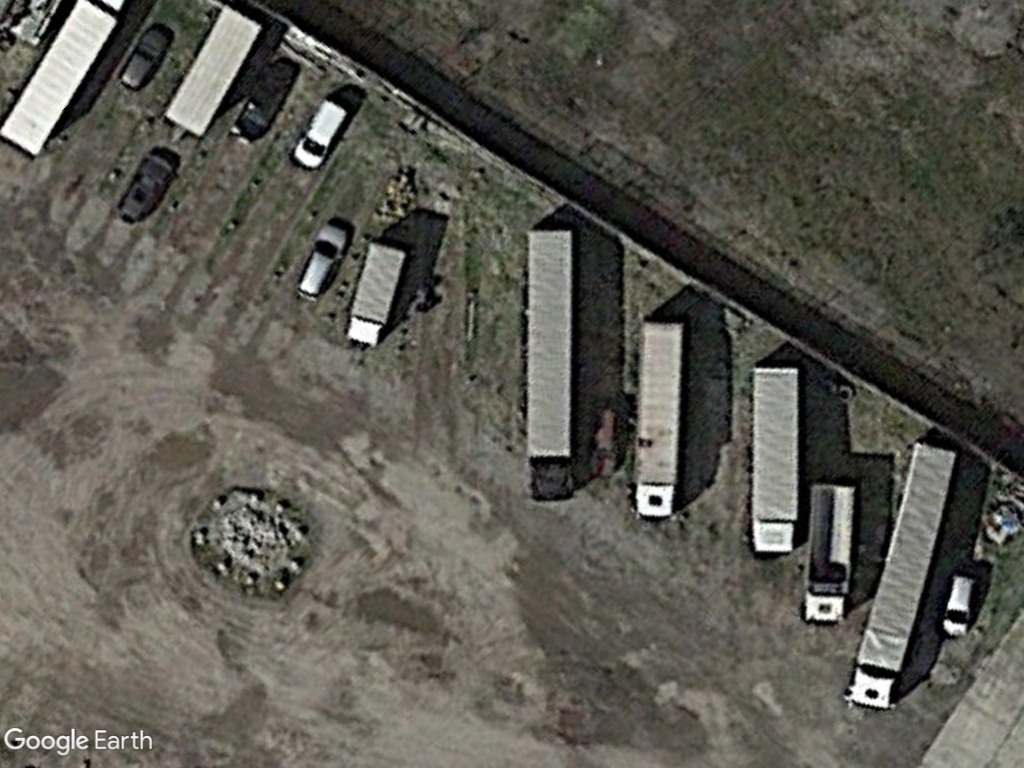car: (292, 218, 351, 304), (938, 568, 979, 641)
longvehicle: (839, 439, 965, 710), (521, 222, 583, 503), (738, 355, 804, 558), (634, 315, 686, 521)
truck: (802, 475, 862, 631), (341, 237, 409, 352)
van: (285, 94, 351, 171), (117, 19, 175, 93)
